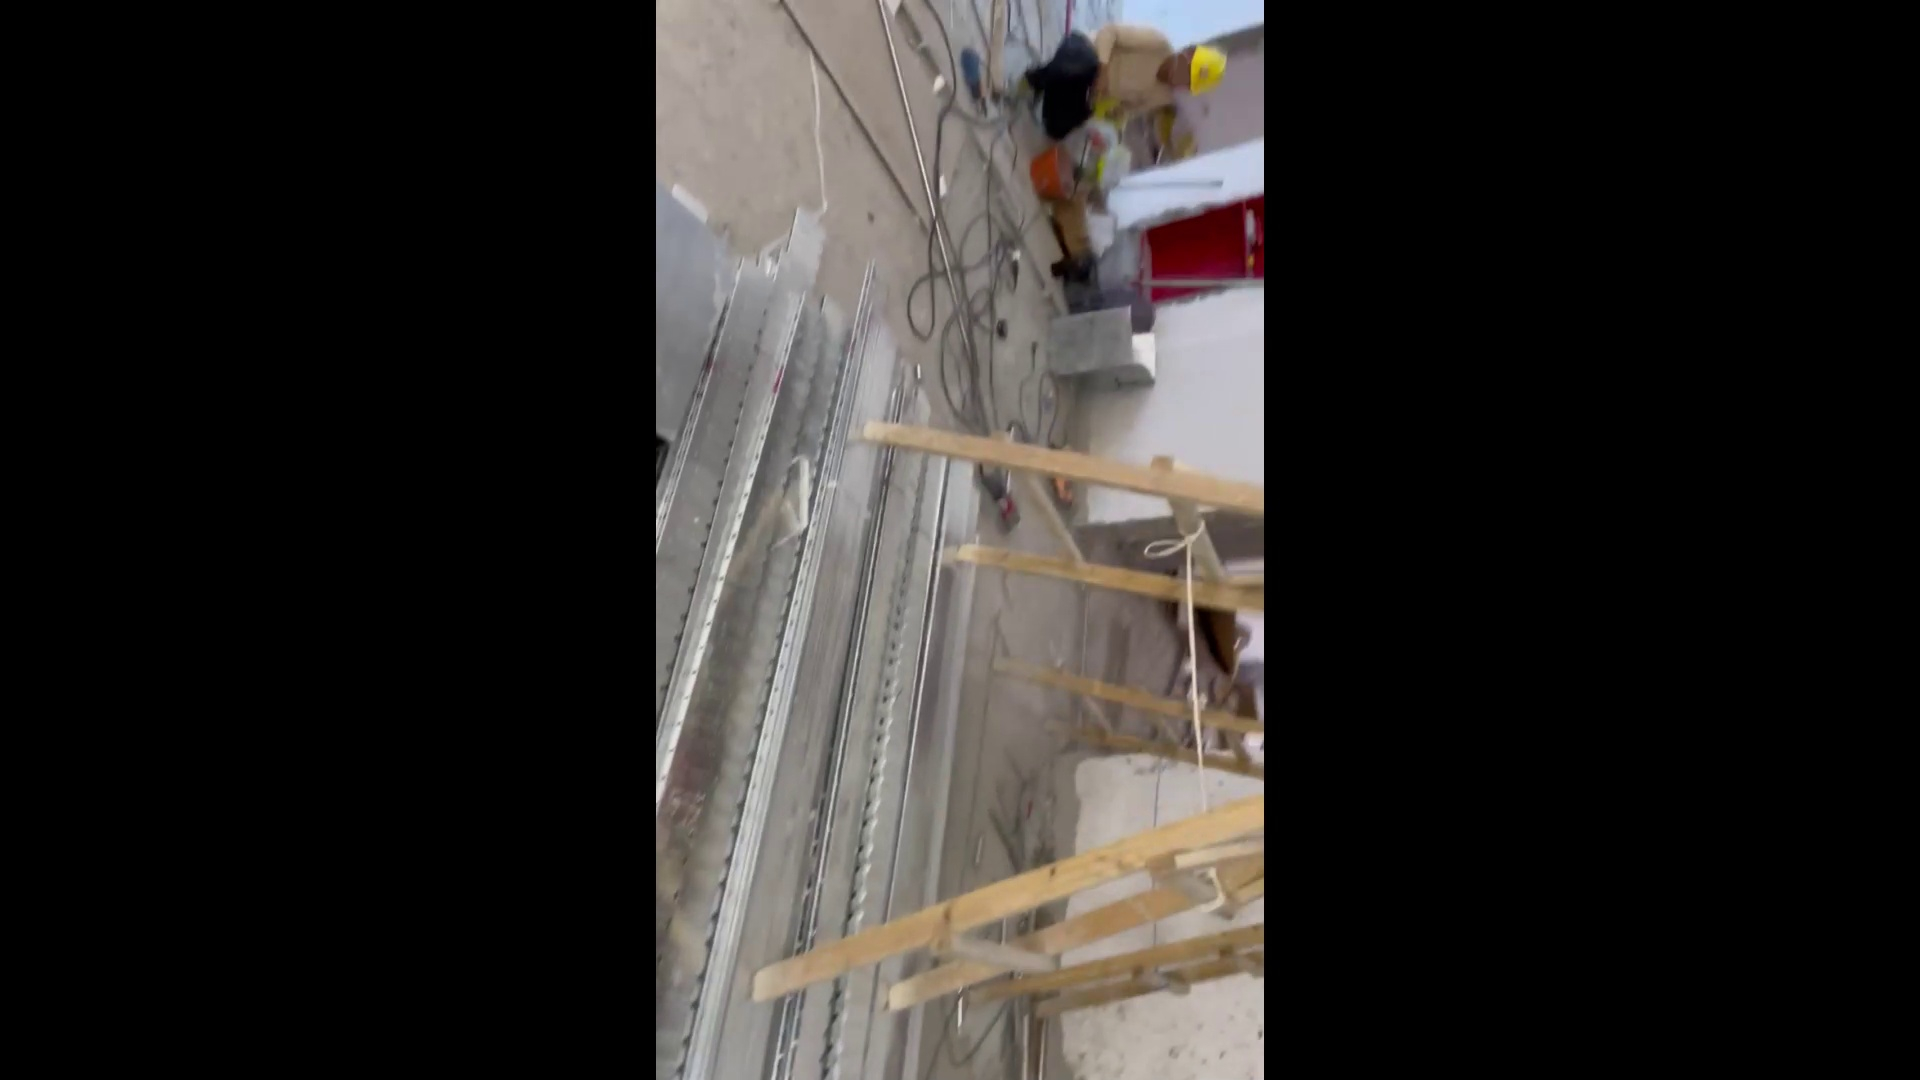helmet: (1193, 37, 1230, 104)
person: (1005, 14, 1222, 143)
